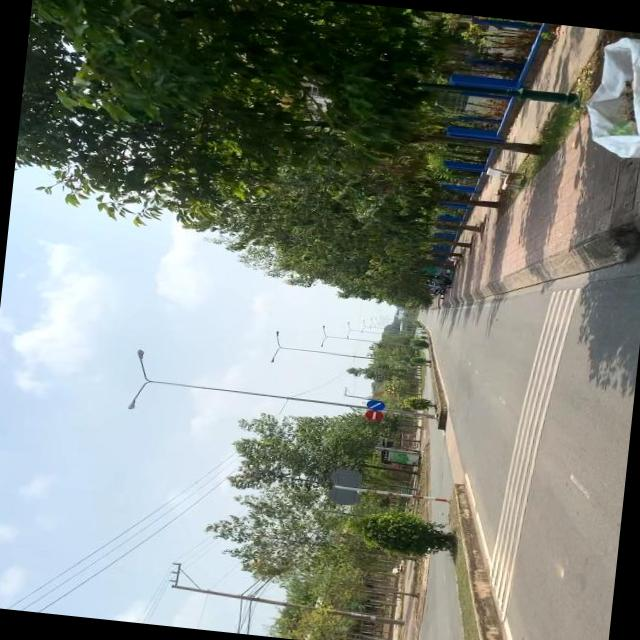P-102: (362, 408, 386, 420)
R-302a: (366, 396, 384, 410)
